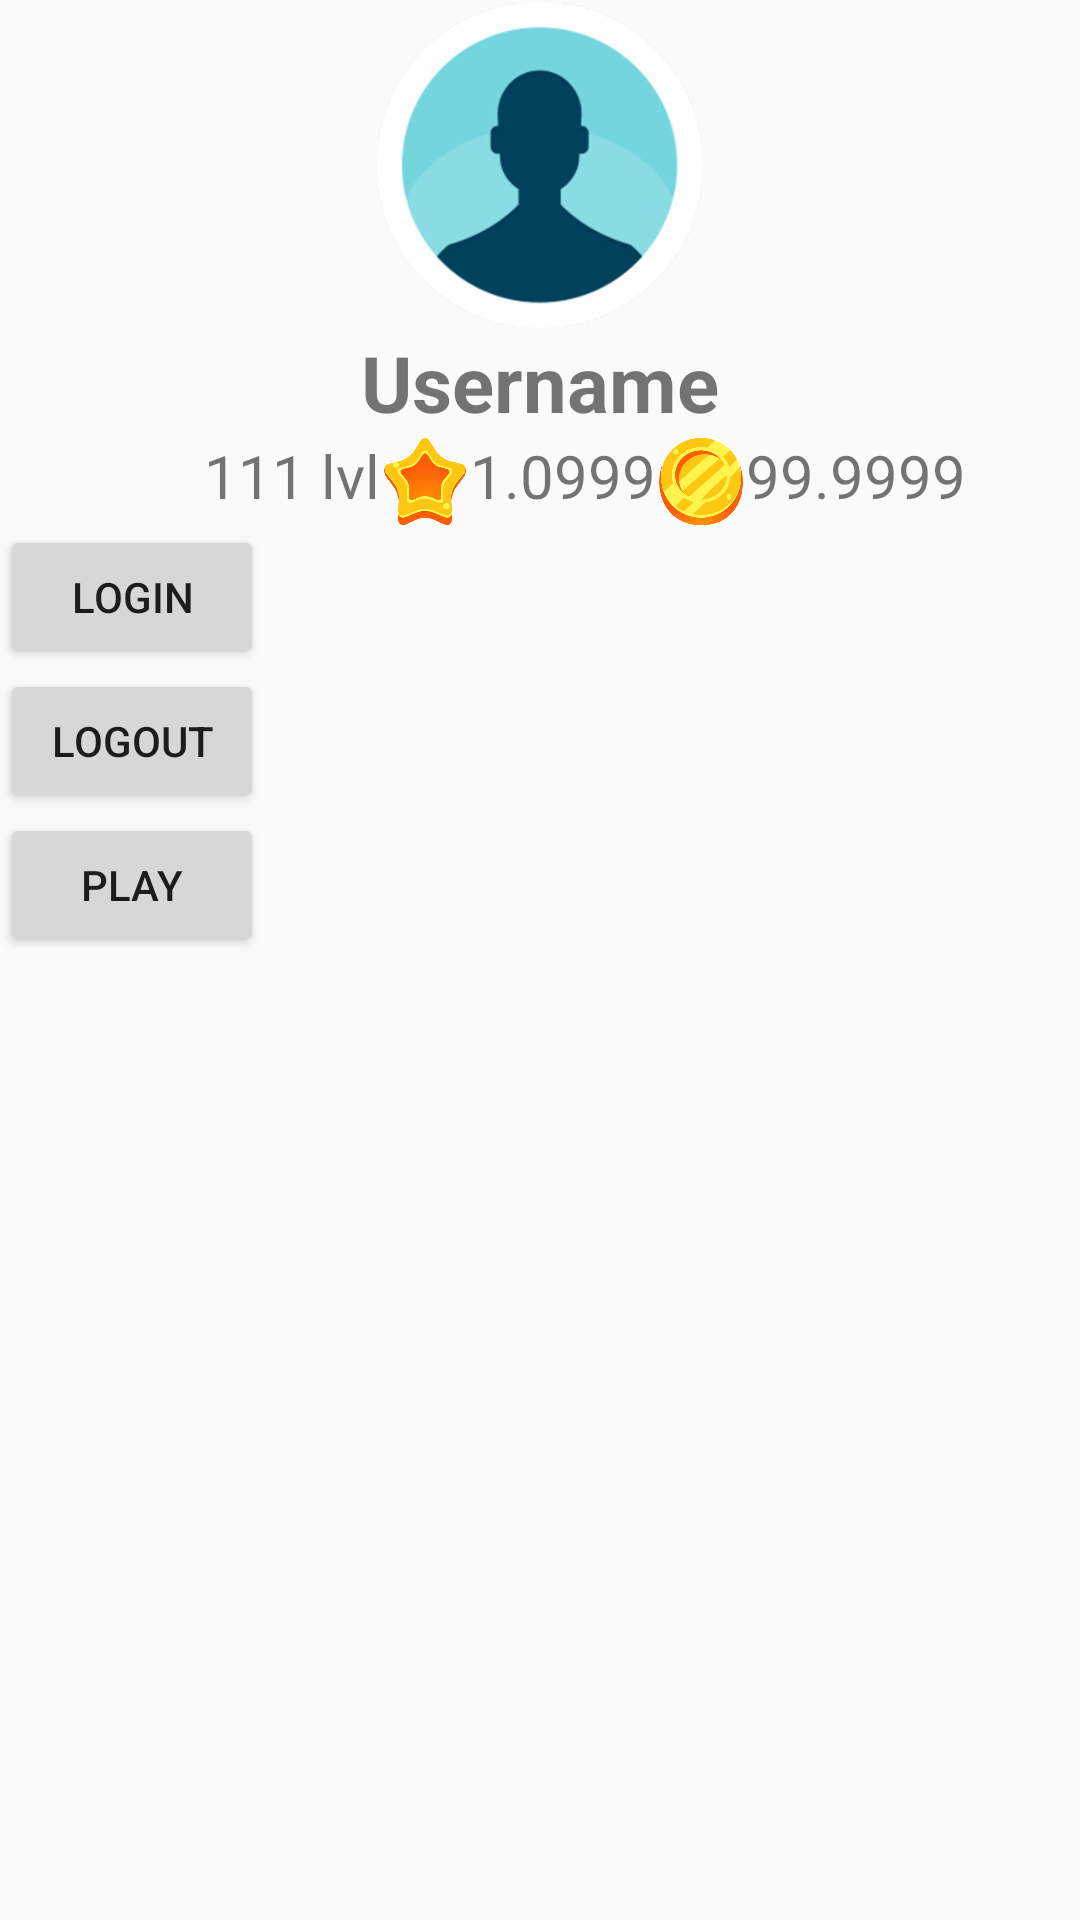

Icon click points for this 1080x1920 phone screenshot, format (x,y):
coin: (701,481)
star: (425,481)
